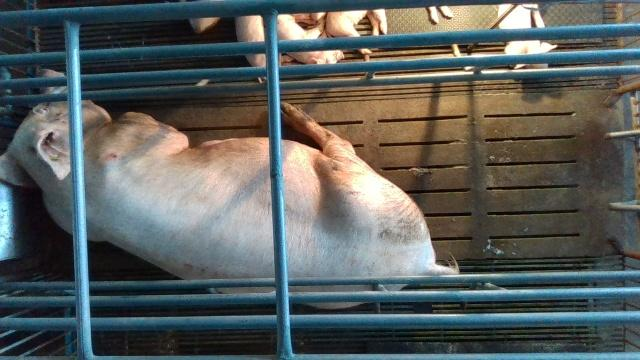piglet: (499, 4, 558, 69), (278, 13, 345, 64), (326, 8, 387, 54), (235, 15, 266, 67)
sow-sleep: (0, 68, 460, 310)
